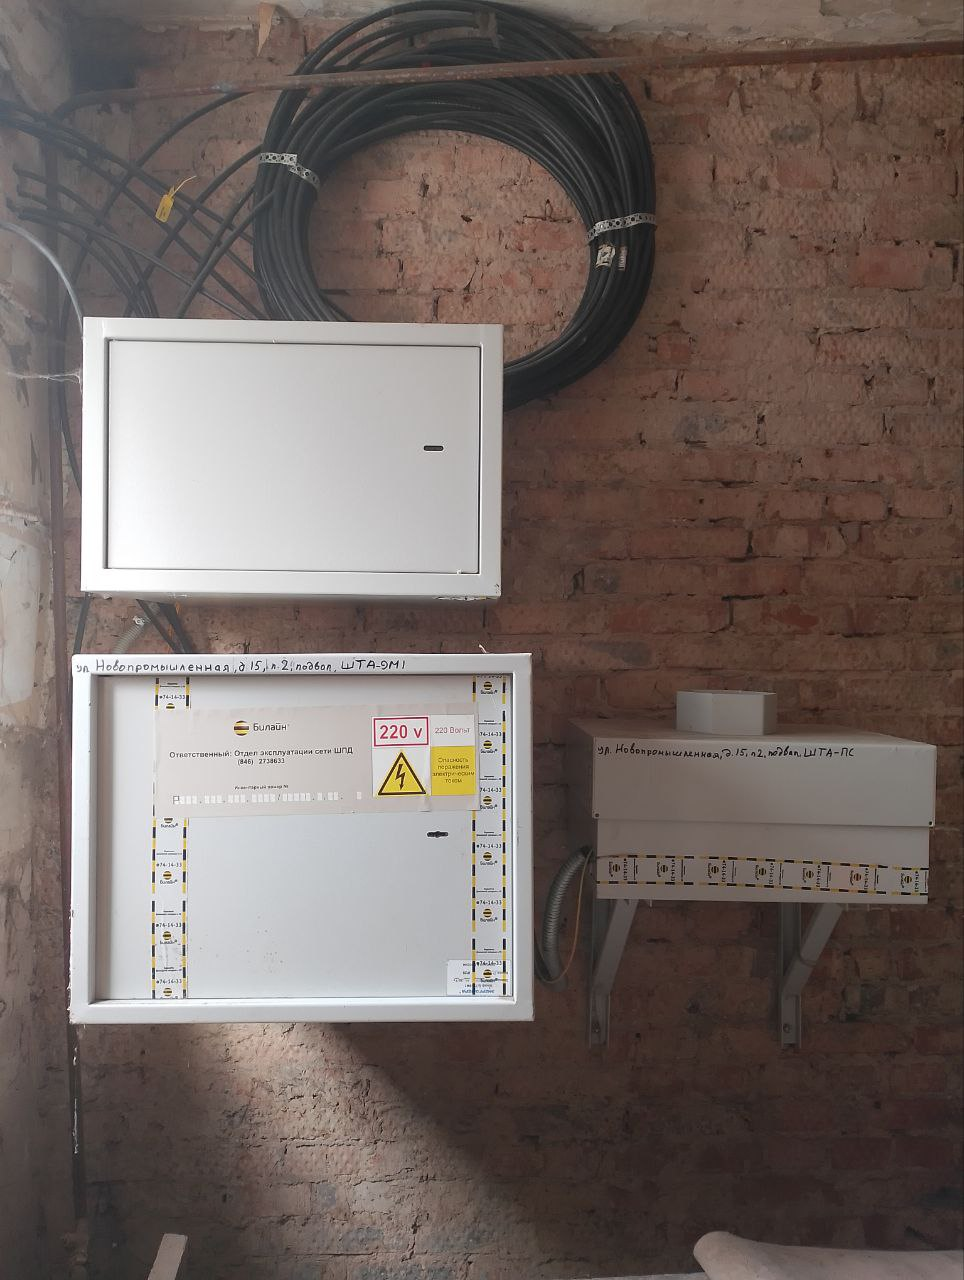shta-7m: (71, 306, 510, 604)
shta-9m: (63, 647, 535, 1028)
shta-ps: (566, 682, 940, 905)
